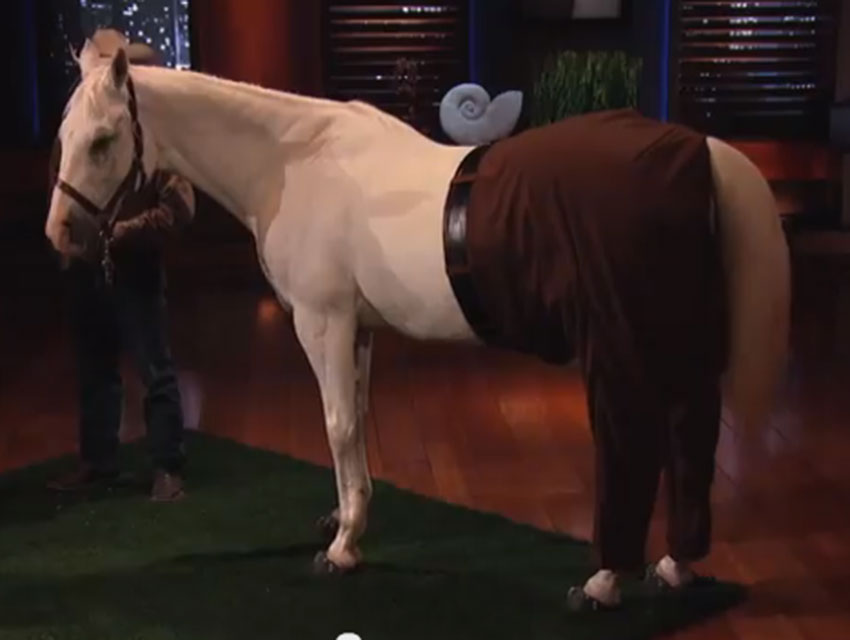Horse: (30, 26, 790, 562)
Person: (66, 31, 190, 494)
